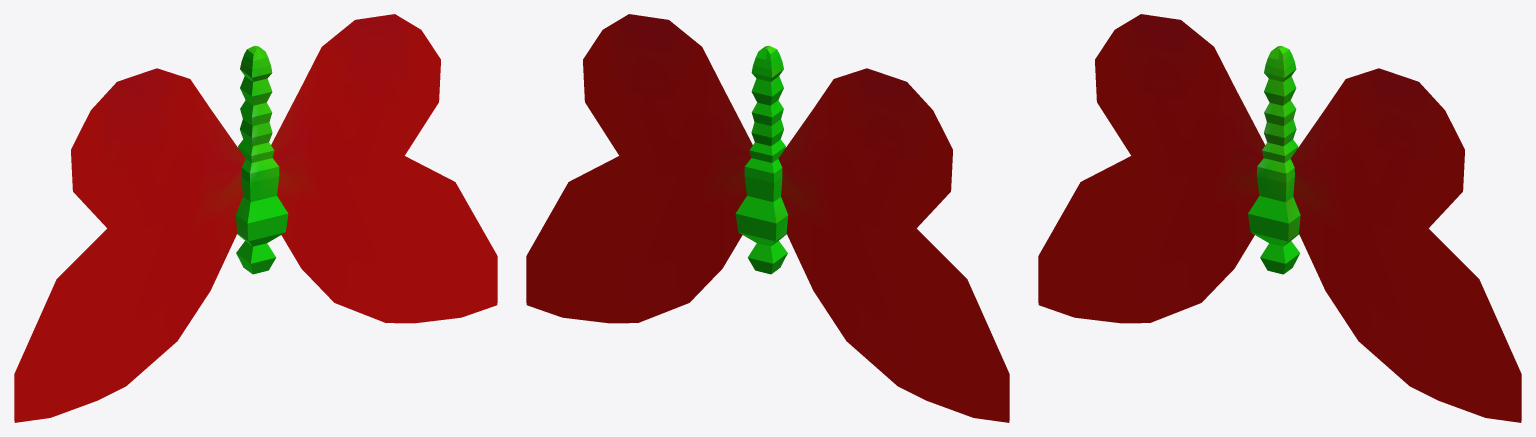
File: Fixed Butterfly.fbx
3 views of the same model, side by side, from view 1: azimuth 30°, elevation 25°; view 2: azimuth 150°, elevation 25°; view 3: azimuth 330°, elevation 25° (orthographic).
Visible parts, largest first — view 1: Plane.001; view 2: Plane.001; view 3: Plane.001.
Part boxes in pixels (left/top/right/bottom): Plane.001: left=14, top=14, right=497, bottom=422; Plane.001: left=526, top=14, right=1009, bottom=422; Plane.001: left=1038, top=14, right=1521, bottom=422.
Size of the model in its own units: 994 by 636 by 84.1.
